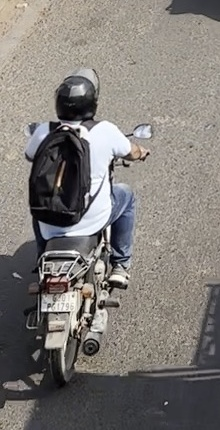BikeWithRider: (14, 63, 157, 391)
Helmet: (47, 63, 105, 126)
